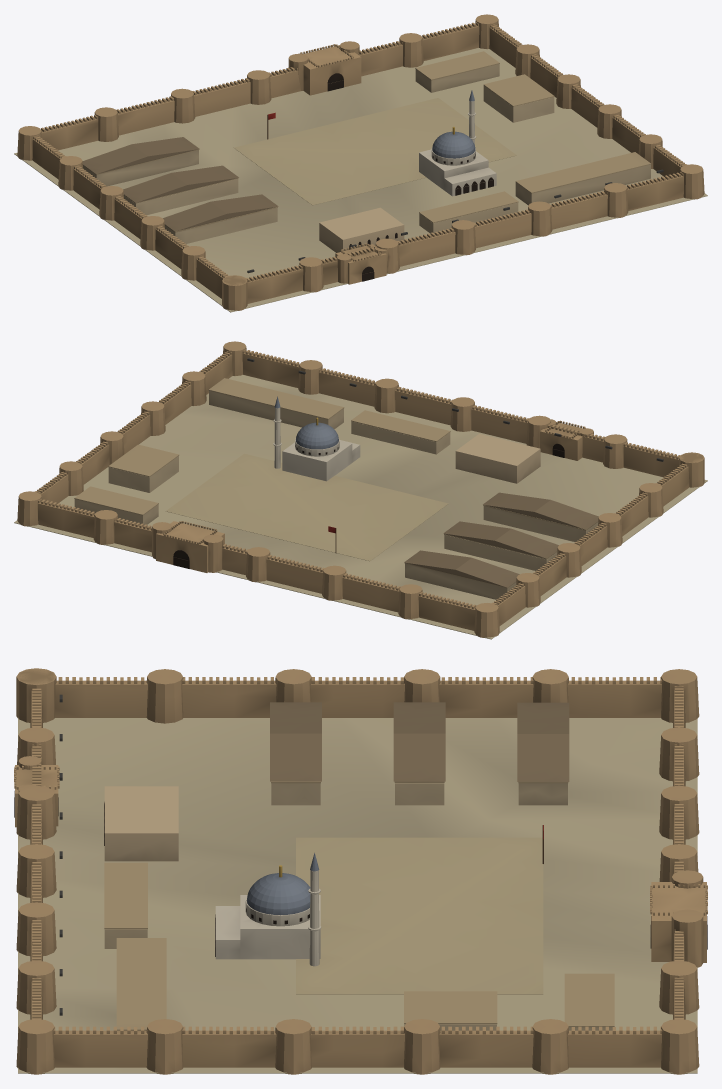
File: ottoman-citadel.glb
3 views of the same model, one above another, from view 1: azimuth 30°, elevation 25°; view 2: azimuth 150°, elevation 25°; view 3: azimuth 270°, elevation 25° (orthographic). The views are drawn at different scales.
Parts seen in each view (by area): view 1: p1_walls, p2_barracks, p0_ground, p3_mosque; view 2: p1_walls, p2_barracks, p0_ground, p3_mosque; view 3: p0_ground, p1_walls, p2_barracks, p3_mosque.
Part boxes in pixels (bbox=[...]): p1_walls: bbox=[17, 14, 704, 310]; p2_barracks: bbox=[82, 51, 663, 273]; p0_ground: bbox=[14, 48, 707, 312]; p3_mosque: bbox=[267, 90, 496, 196]; p1_walls: bbox=[17, 341, 704, 637]; p2_barracks: bbox=[74, 358, 663, 599]; p0_ground: bbox=[14, 375, 707, 639]; p3_mosque: bbox=[273, 396, 360, 552]; p0_ground: bbox=[18, 718, 697, 1073]; p1_walls: bbox=[14, 668, 707, 1074]; p2_barracks: bbox=[59, 694, 614, 1030]; p3_mosque: bbox=[215, 825, 543, 966].
Size of the model in its own units: 281 by 40.53 by 225.
